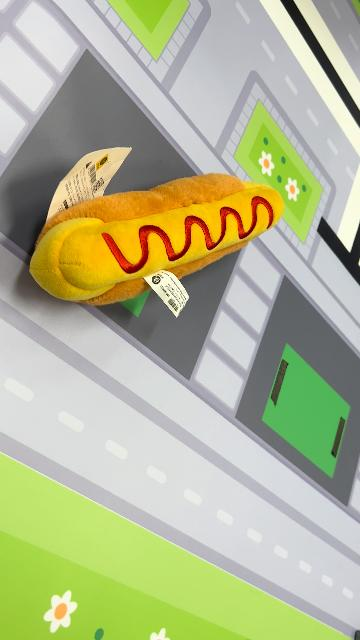hotdog: (28, 172, 286, 308)
